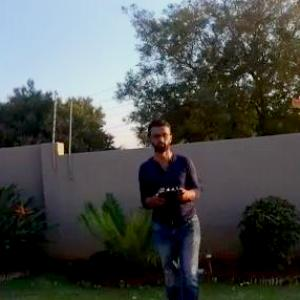follow: (135, 111, 206, 299)
